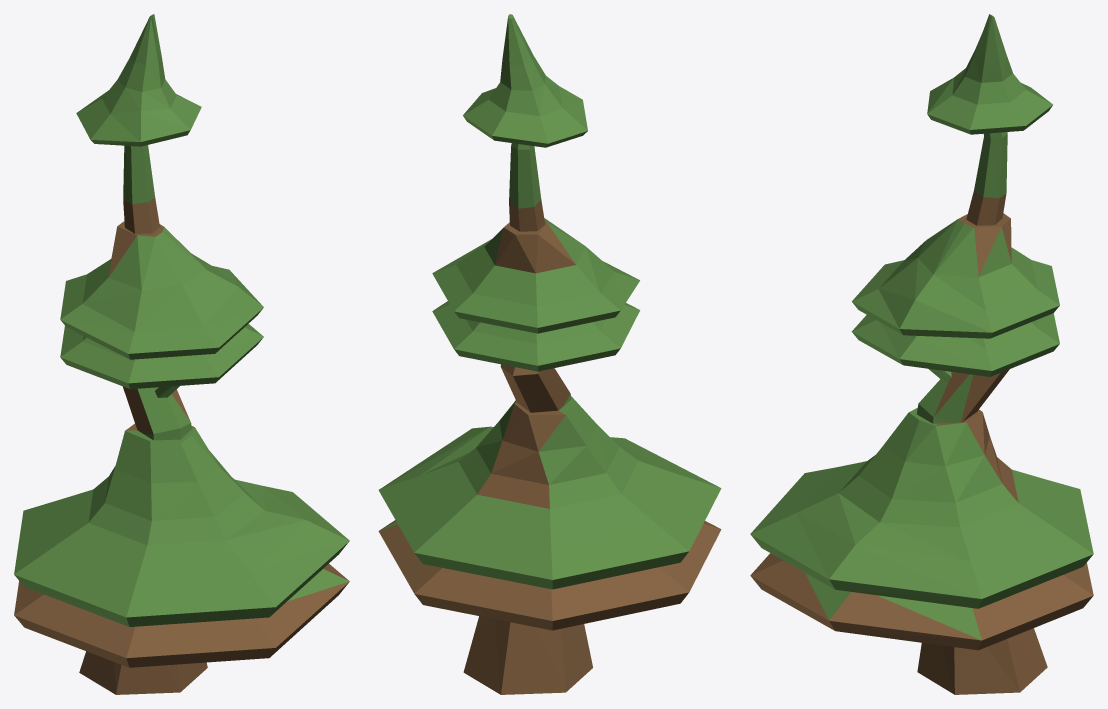
Rendered from tree3d-198.glb.
The picture shows the model from 3 angles, left to right: view 1: azimuth 30°, elevation 25°; view 2: azimuth 150°, elevation 25°; view 3: azimuth 270°, elevation 25°; orthographic projection.
Parts seen in each view (by area): view 1: tree3d-198; view 2: tree3d-198; view 3: tree3d-198.
Part boxes in pixels (x1,y1,x2,y2): tree3d-198: (14,14,349,694); tree3d-198: (378,14,721,694); tree3d-198: (750,14,1093,694).
Size of the model in its own units: 0.4728 by 1 by 0.4701.
